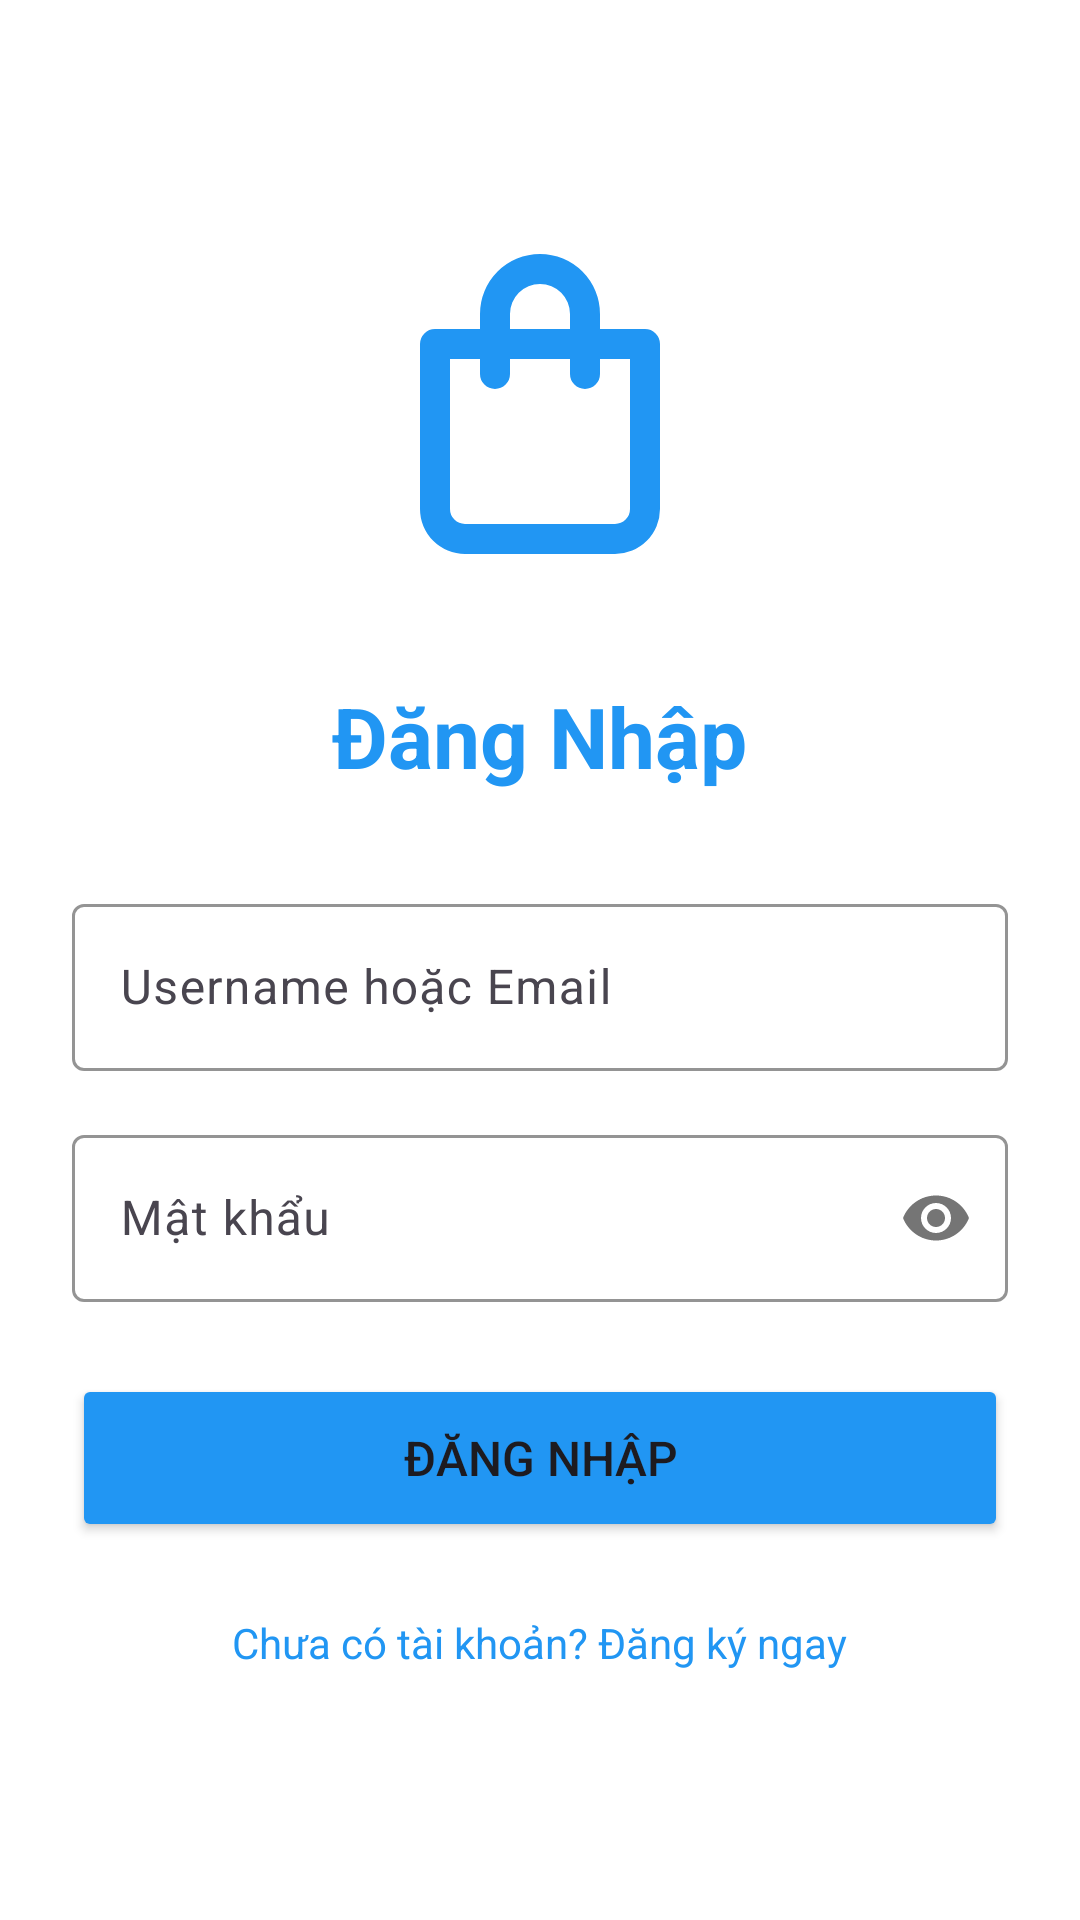

Point at icon controls on the screen. Image size 1080*1920, points as [x,y].
shopping bag: [540,404]
